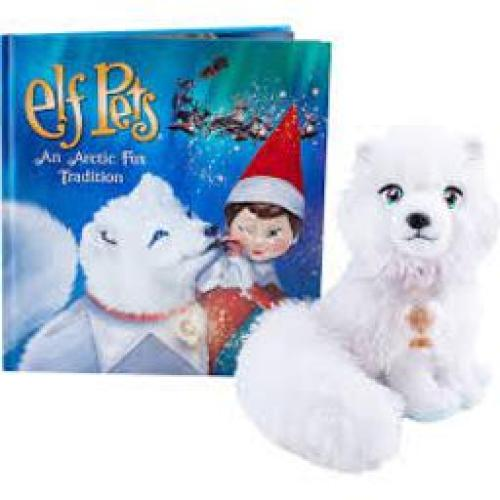arctic_fox-endangered: (239, 129, 500, 471), (0, 174, 217, 374)
